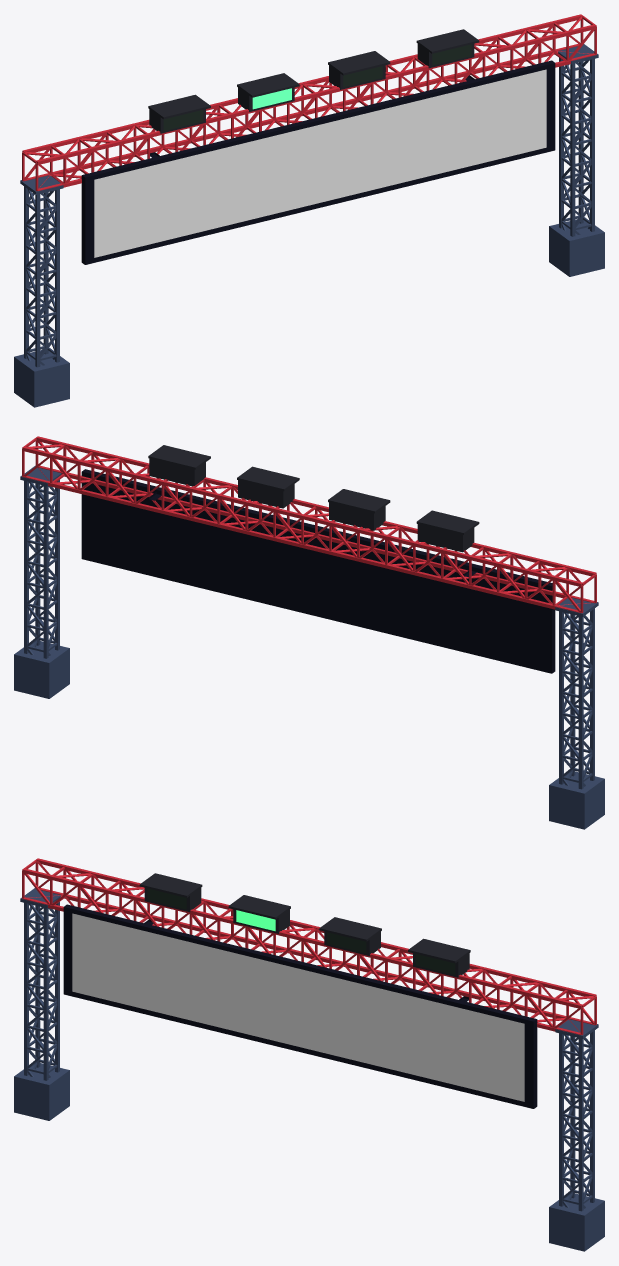
File: gantry.glb
The picture shows the model from 3 angles, top to bottom: view 1: azimuth 30°, elevation 25°; view 2: azimuth 150°, elevation 25°; view 3: azimuth 330°, elevation 25°; orthographic projection.
Visible parts, largest first — view 1: sign, legs, truss, backing, housing; view 2: backing, truss, legs, housing; view 3: sign, legs, truss, backing, housing.
Part boxes in pixels (bbox=[...]): sign: bbox=[94, 69, 546, 257]; legs: bbox=[14, 44, 604, 407]; truss: bbox=[22, 14, 596, 191]; backing: bbox=[81, 60, 555, 264]; housing: bbox=[148, 29, 479, 133]; backing: bbox=[81, 469, 555, 673]; truss: bbox=[22, 436, 596, 613]; legs: bbox=[14, 465, 604, 829]; housing: bbox=[148, 445, 479, 552]; sign: bbox=[72, 913, 524, 1101]; legs: bbox=[14, 888, 604, 1251]; truss: bbox=[22, 858, 596, 1035]; backing: bbox=[63, 904, 537, 1108]; housing: bbox=[139, 873, 470, 977].
Size of the model in its own units: 29 by 12.7 by 1.95.
